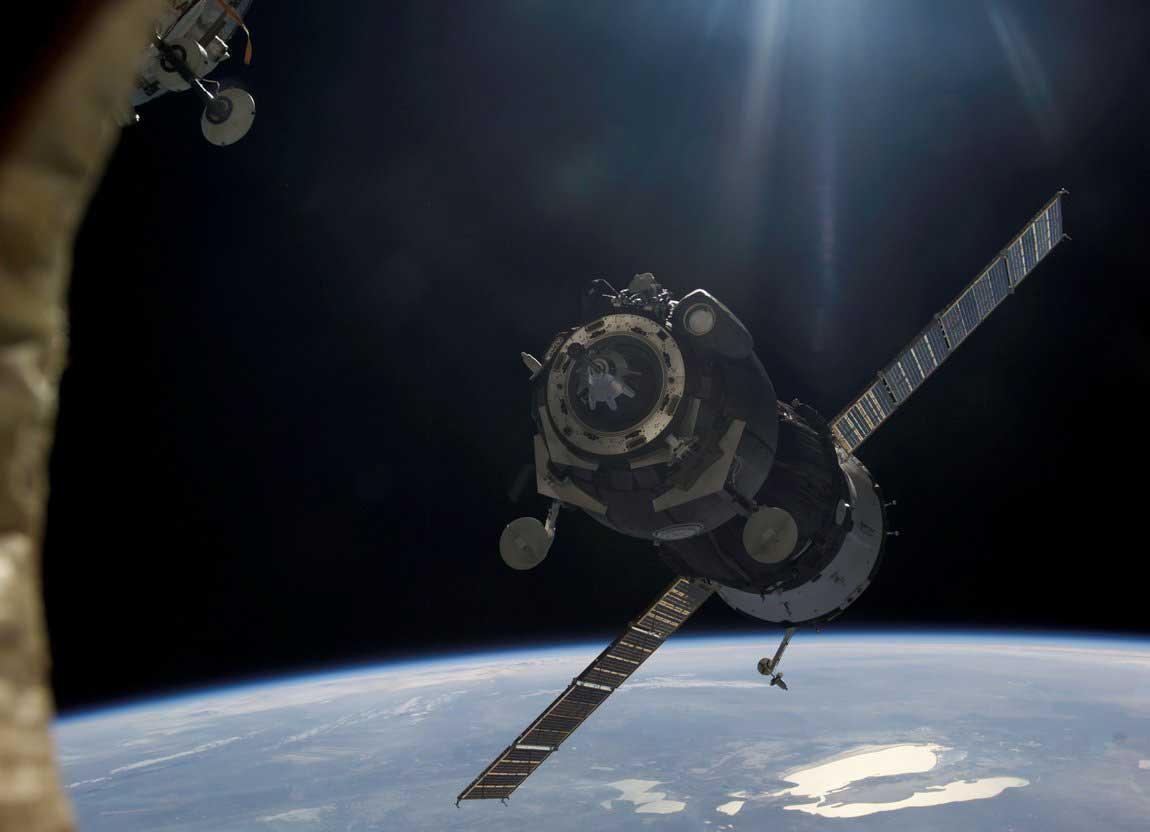antenna: (740, 503, 802, 566), (196, 87, 259, 148), (497, 514, 554, 573), (769, 671, 790, 693), (756, 656, 777, 676)
body: (517, 267, 895, 632)
solar: (827, 183, 1076, 456), (454, 576, 714, 810)
